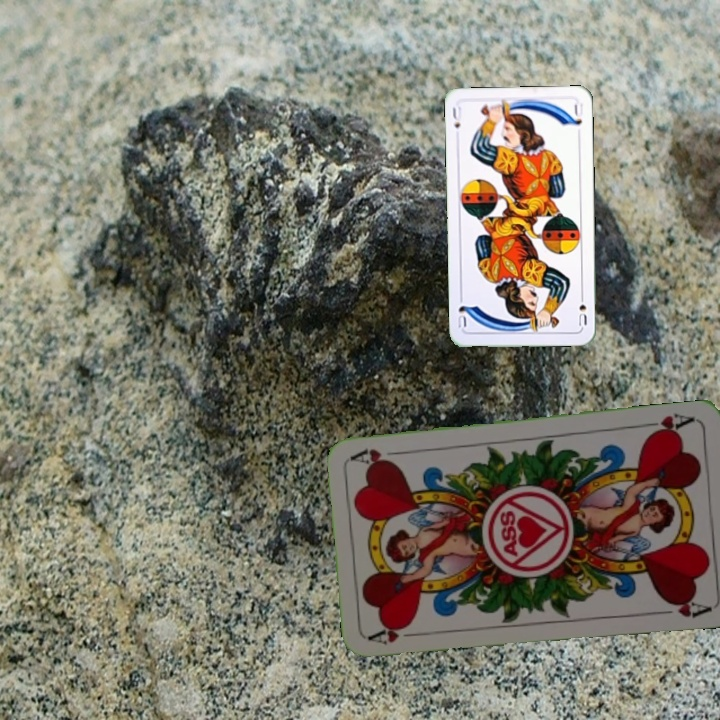HA: (638, 409, 697, 439), (366, 620, 426, 647)
SU: (575, 289, 589, 328), (448, 103, 462, 131)
